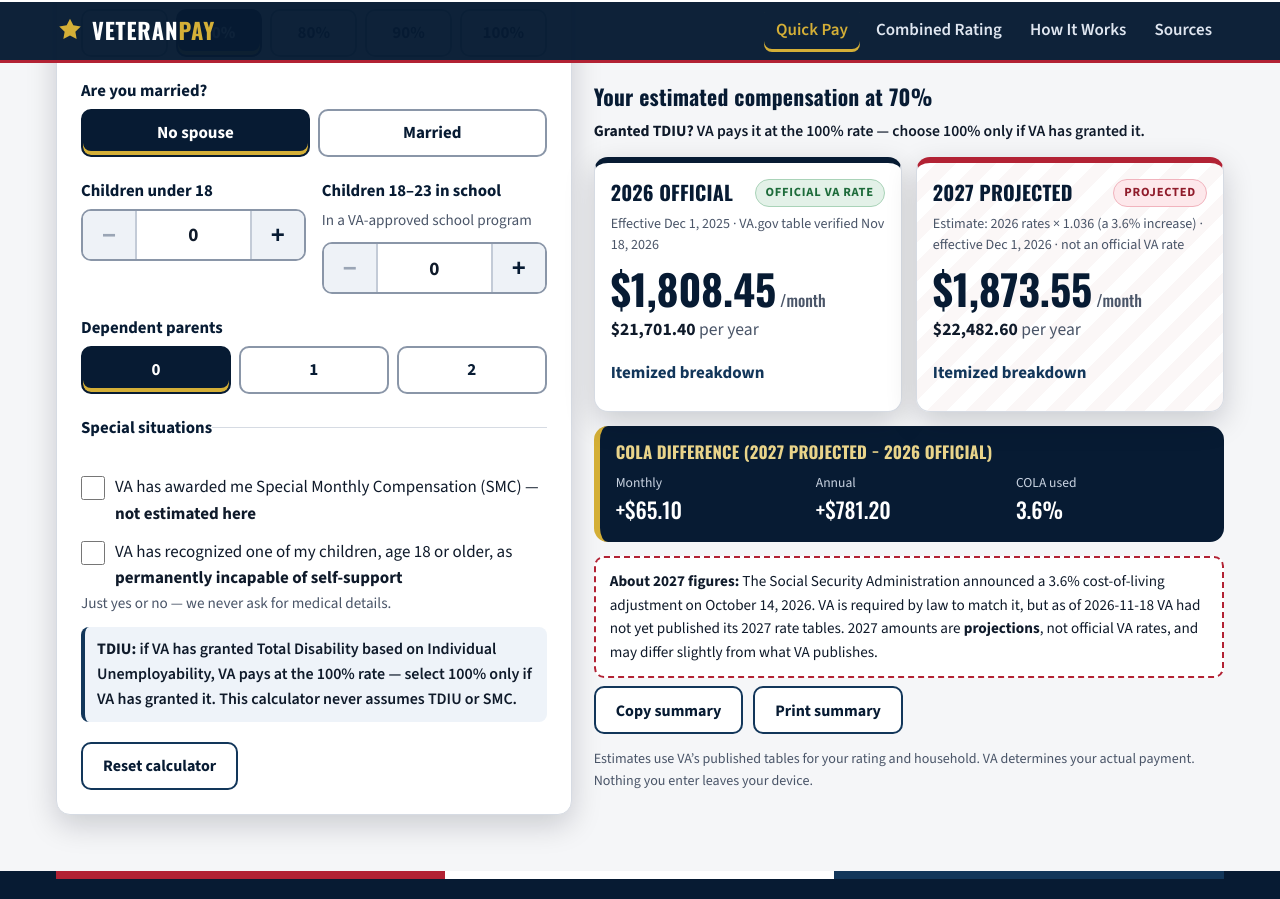
Scenario: App › shows a warning and no amount for SMC
(page scrolled)
Click the checkbox labelled "Special Monthly Compensation": (93, 488) x1=81 y1=476 x2=105 y2=500
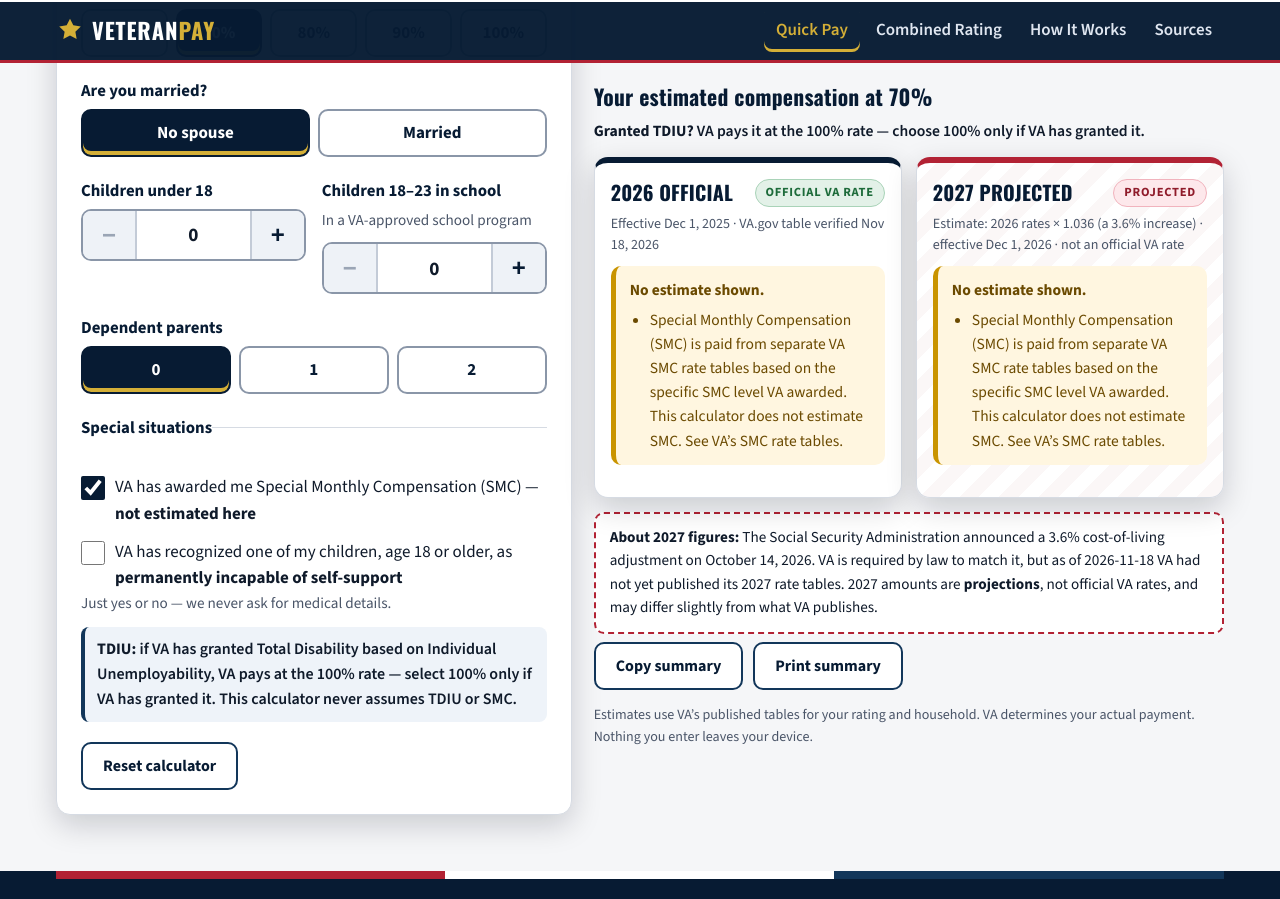
Check: the text "No estimate shown." is shown 2 times, box x1=630 y1=279 x2=764 y2=300; x1=952 y1=279 x2=1086 y2=300
Check: the text "$1,808.45" is gone
